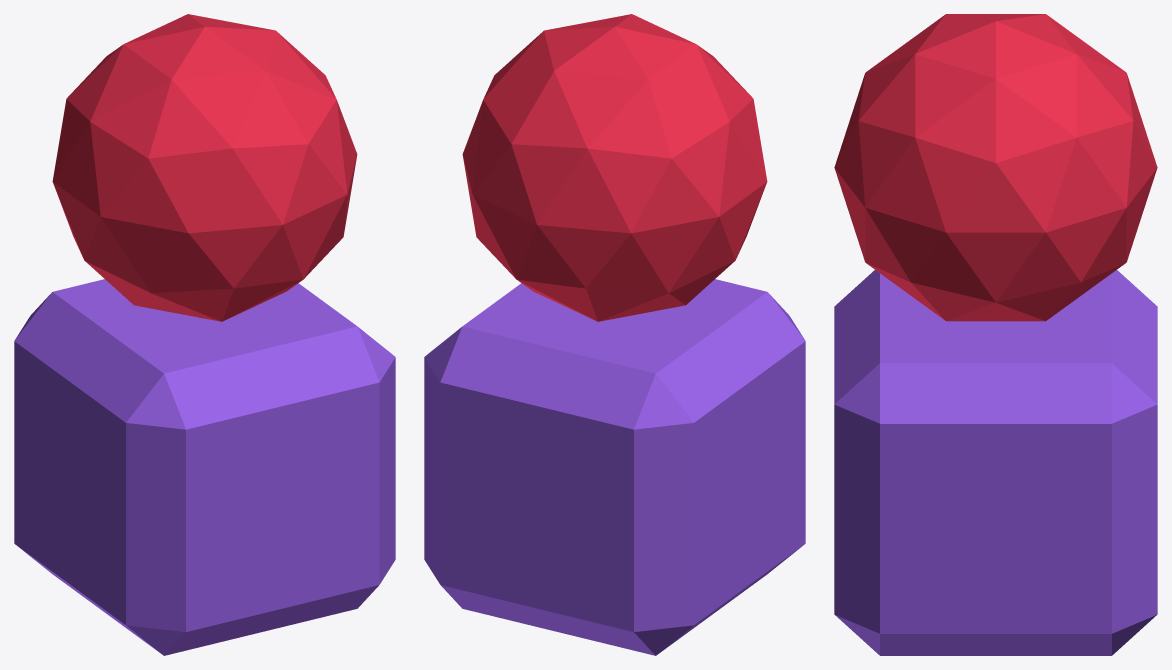
File: teste.glb
3 renders of one model, left to right at view 1: azimuth 30°, elevation 25°; view 2: azimuth 150°, elevation 25°; view 3: azimuth 270°, elevation 25°, orthographic. The views are drawn at different scales.
Parts seen in each view (by area): view 1: Cube, Icosphere; view 2: Cube, Icosphere; view 3: Cube, Icosphere.
Part boxes in pixels (left/top/right/bottom): Cube: left=14, top=279, right=395, bottom=655; Icosphere: left=52, top=14, right=357, bottom=321; Cube: left=424, top=279, right=805, bottom=655; Icosphere: left=462, top=14, right=767, bottom=321; Cube: left=834, top=270, right=1157, bottom=655; Icosphere: left=834, top=14, right=1157, bottom=321.
Size of the model in its own units: 2 by 4 by 2.
